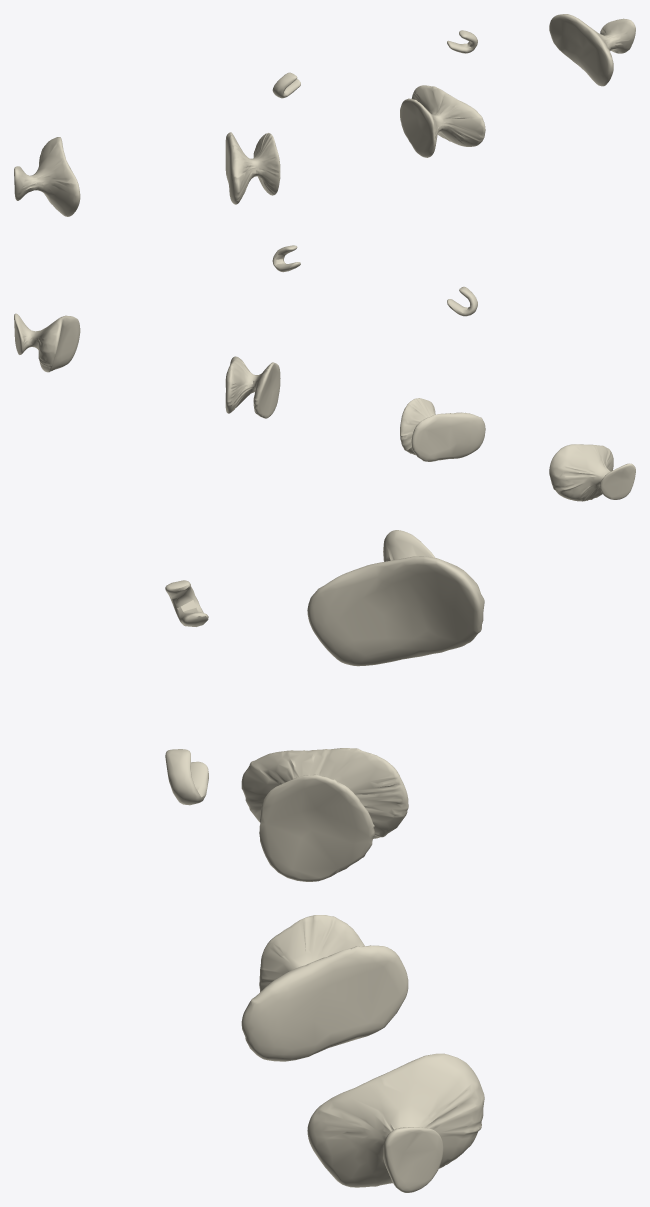
File: joints.head.glb
3 views of the same model, one above another, from view 1: azimuth 30°, elevation 25°; view 2: azimuth 150°, elevation 25°; view 3: azimuth 270°, elevation 25° (orthographic). The views are drawn at different scales.
Parts seen in each view (by area): view 1: check_ligament_of_left_medial_rectus, check_ligament_of_left_lateral_rectus, check_ligament_of_right_lateral_rectus, check_ligament_of_right_medial_rectus, trochlea_of_right_superior_oblique, trochlea_of_left_superior_oblique; view 2: check_ligament_of_right_medial_rectus, check_ligament_of_right_lateral_rectus, check_ligament_of_left_lateral_rectus, check_ligament_of_left_medial_rectus, trochlea_of_right_superior_oblique, trochlea_of_left_superior_oblique; view 3: check_ligament_of_left_lateral_rectus, check_ligament_of_left_medial_rectus, check_ligament_of_right_medial_rectus, check_ligament_of_right_lateral_rectus, trochlea_of_left_superior_oblique, trochlea_of_right_superior_oblique.
Boxes of the visible parts, x1,y1,x2,y2 form: check_ligament_of_left_medial_rectus: (400,85,485,157); check_ligament_of_left_lateral_rectus: (549,14,635,86); check_ligament_of_right_lateral_rectus: (14,137,80,216); check_ligament_of_right_medial_rectus: (225,132,280,204); trochlea_of_right_superior_oblique: (272,72,300,98); trochlea_of_left_superior_oblique: (447,30,477,53); check_ligament_of_right_medial_rectus: (400,398,485,461); check_ligament_of_right_lateral_rectus: (549,444,635,501); check_ligament_of_left_lateral_rectus: (14,313,80,372); check_ligament_of_left_medial_rectus: (225,356,280,418); trochlea_of_right_superior_oblique: (447,286,477,316); trochlea_of_left_superior_oblique: (272,245,300,272); check_ligament_of_left_lateral_rectus: (307,1053,484,1192); check_ligament_of_left_medial_rectus: (241,915,408,1061); check_ligament_of_right_medial_rectus: (241,748,408,881); check_ligament_of_right_lateral_rectus: (307,530,484,666); trochlea_of_left_superior_oblique: (165,749,208,805); trochlea_of_right_superior_oblique: (165,580,208,626).
Bounding box in the file's own units: 0.0986 × 0.022 × 0.022.
